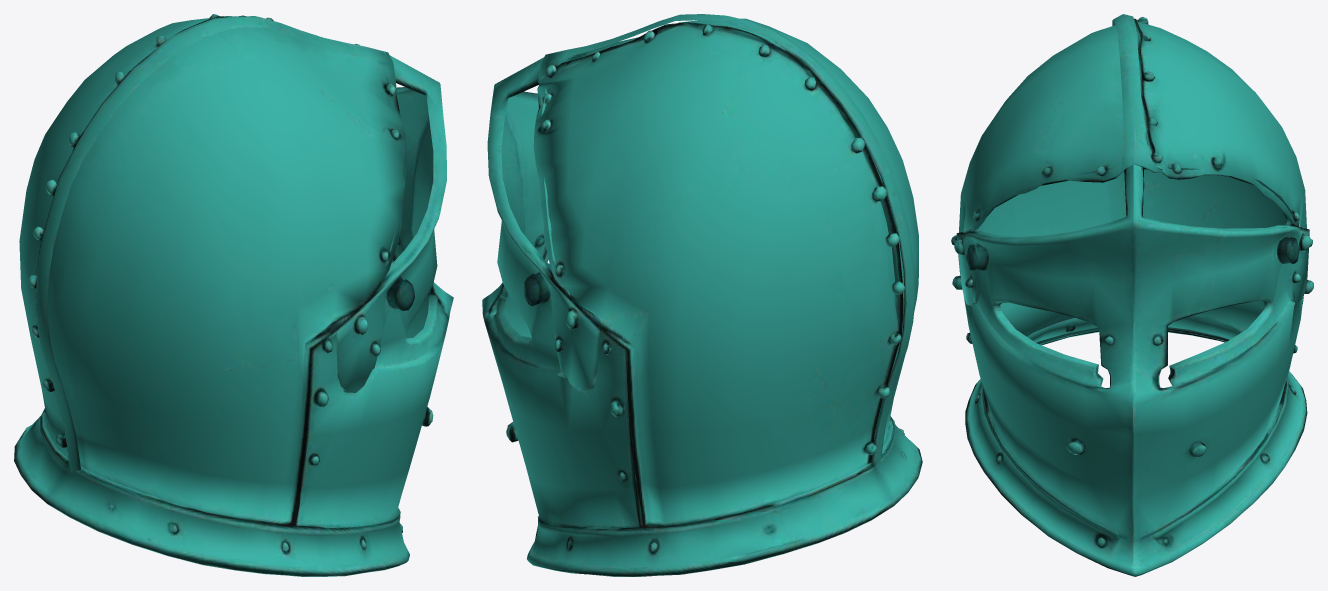
The model's file is runeforged_full_helm.glb.
The picture shows the model from 3 angles, left to right: view 1: azimuth 30°, elevation 25°; view 2: azimuth 150°, elevation 25°; view 3: azimuth 270°, elevation 25°; orthographic projection. The views are drawn at different scales.
Visible parts, largest first — view 1: tripo_node_af3596da-f39c-445c-85cb-942779934b46; view 2: tripo_node_af3596da-f39c-445c-85cb-942779934b46; view 3: tripo_node_af3596da-f39c-445c-85cb-942779934b46.
Part boxes in pixels (x1,y1,x2,y2): tripo_node_af3596da-f39c-445c-85cb-942779934b46: [14, 14, 453, 576]; tripo_node_af3596da-f39c-445c-85cb-942779934b46: [482, 14, 922, 576]; tripo_node_af3596da-f39c-445c-85cb-942779934b46: [951, 14, 1313, 576].
Size of the model in its own units: 0.5331 by 0.6863 by 0.4761.
1 material, 1 textured.
